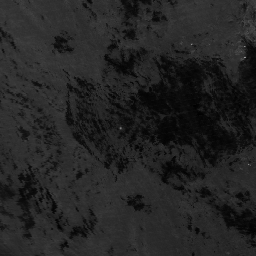Target: (117, 126, 122, 131)
